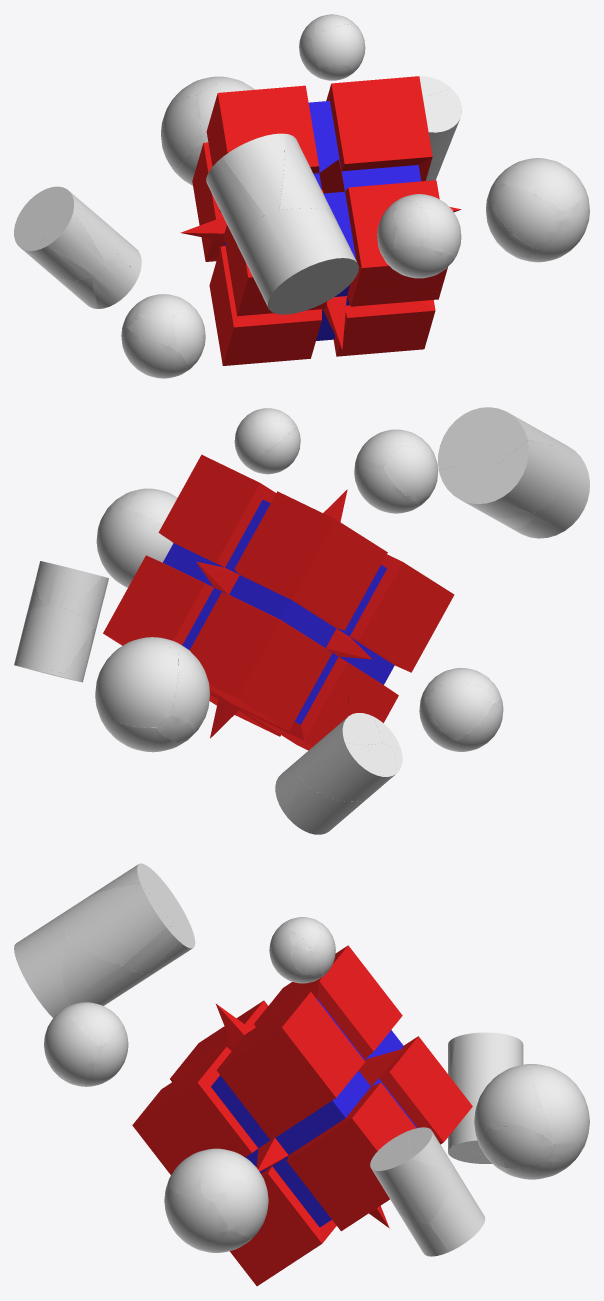
File: Boss Crushed.fbx
3 renders of one model, top to bottom at view 1: azimuth 30°, elevation 25°; view 2: azimuth 150°, elevation 25°; view 3: azimuth 270°, elevation 25°, orthographic.
Parts seen in each view (by area): view 1: Cube.086_cell.003, Cylinder.001_cell, Cube.086_cell.005, Cube.086_cell, Cube.086_cell.007, Cylinder.001_cell.007, Sphere_cell.006, Sphere_cell.001, Cylinder.001_cell.003, Cylinder.002_cell, Cylinder.001_cell.002, Sphere.003_cell.002 (+25 smaller); view 2: Cube.086_cell.005, Cube.086_cell.002, Cube.086_cell.006, Cube.086_cell, Sphere.003_cell.004, Cube.086_cell.004, Sphere_cell.007, Cylinder_cell.007, Cylinder.001_cell.003, Cylinder.001_cell.007, Cylinder.001_cell, Cylinder.002_cell.003 (+23 smaller); view 3: Cube.086_cell.004, Cube.086_cell.003, Cube.086_cell.005, Cylinder.001_cell.002, Cube.086_cell.002, Cylinder_cell.006, Sphere.003_cell.005, Cylinder.001_cell, Cylinder.001_cell.004, Cylinder.002_cell, Sphere.003_cell.004, Sphere_cell.007 (+22 smaller).
Part boxes in pixels (x1=…): Cube.086_cell.003: x1=315, y1=76, x2=447, y2=292; Cylinder.001_cell: x1=239, y1=208, x2=358, y2=314; Cube.086_cell.005: x1=180, y1=85, x2=335, y2=255; Cube.086_cell: x1=221, y1=229, x2=352, y2=365; Cube.086_cell.007: x1=335, y1=281, x2=440, y2=356; Cylinder.001_cell.007: x1=222, y1=133, x2=284, y2=214; Sphere_cell.006: x1=489, y1=184, x2=565, y2=249; Sphere_cell.001: x1=495, y1=158, x2=583, y2=214; Cylinder.001_cell.003: x1=206, y1=157, x2=264, y2=247; Cylinder.002_cell: x1=39, y1=186, x2=118, y2=264; Cylinder.001_cell.002: x1=279, y1=134, x2=329, y2=209; Sphere.003_cell.002: x1=161, y1=96, x2=201, y2=171; Cube.086_cell.005: x1=188, y1=487, x2=408, y2=671; Cube.086_cell.002: x1=141, y1=475, x2=265, y2=648; Cube.086_cell.006: x1=205, y1=669, x2=348, y2=748; Cube.086_cell: x1=266, y1=566, x2=454, y2=750; Sphere.003_cell.004: x1=95, y1=640, x2=178, y2=727; Cube.086_cell.004: x1=103, y1=488, x2=267, y2=729; Sphere_cell.007: x1=96, y1=508, x2=173, y2=586; Cylinder_cell.007: x1=14, y1=606, x2=92, y2=675; Cylinder.001_cell.003: x1=493, y1=440, x2=562, y2=513; Cylinder.001_cell.007: x1=462, y1=407, x2=555, y2=468; Cylinder.001_cell: x1=509, y1=432, x2=589, y2=538; Cylinder.002_cell.003: x1=303, y1=743, x2=383, y2=801; Cube.086_cell.004: x1=226, y1=1048, x2=394, y2=1286; Cube.086_cell.003: x1=132, y1=998, x2=316, y2=1174; Cube.086_cell.005: x1=242, y1=945, x2=452, y2=1138; Cylinder.001_cell.002: x1=64, y1=883, x2=174, y2=965; Cube.086_cell.002: x1=302, y1=991, x2=415, y2=1136; Cylinder_cell.006: x1=370, y1=1131, x2=453, y2=1223; Sphere.003_cell.005: x1=474, y1=1064, x2=555, y2=1149; Cylinder.001_cell: x1=14, y1=908, x2=70, y2=1017; Cylinder.001_cell.004: x1=62, y1=935, x2=152, y2=1005; Cylinder.002_cell: x1=450, y1=1032, x2=518, y2=1103; Sphere.003_cell.004: x1=527, y1=1064, x2=589, y2=1144; Sphere_cell.007: x1=211, y1=1157, x2=268, y2=1237.
Bounding box in the file's own units: 1925 × 1427 × 2239.
